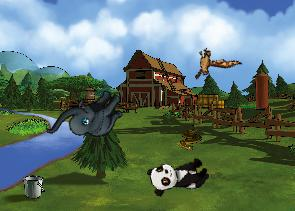eagle: (183, 35, 242, 91)
elephant: (45, 72, 130, 161)
panda: (146, 153, 211, 198)
